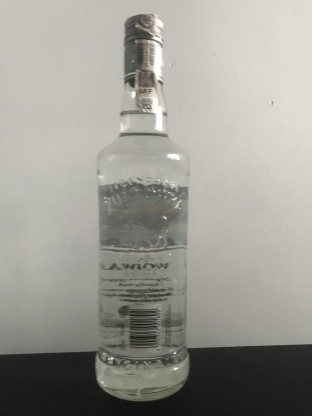nakretka: (121, 11, 166, 86)
